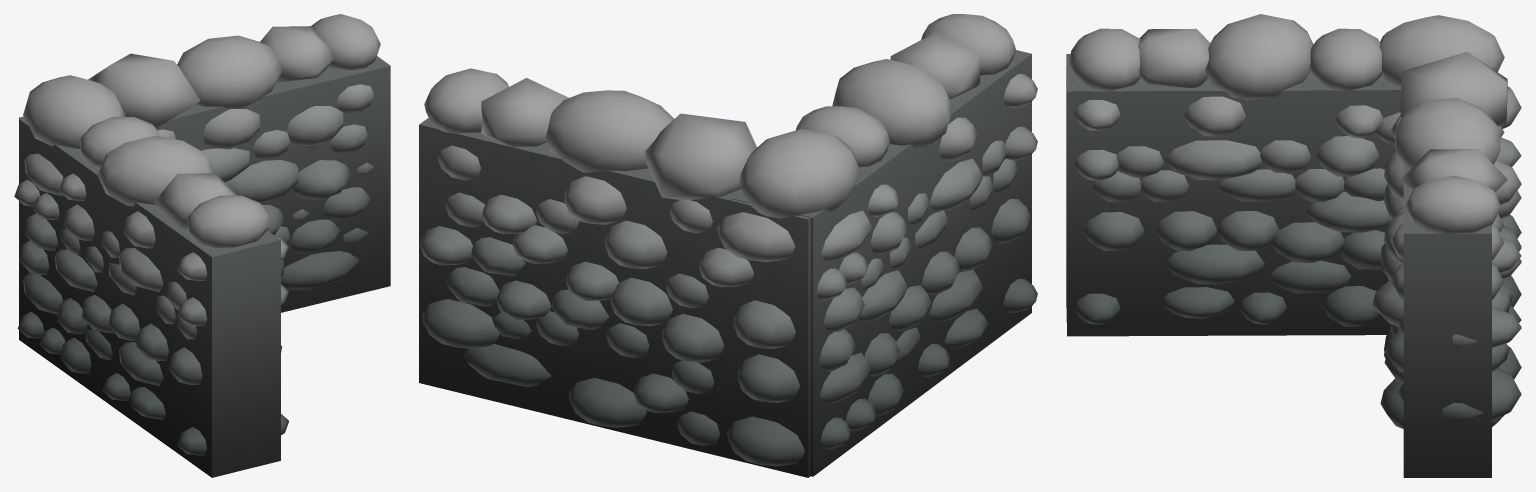
Rendered from stonewall_corner.fbx.
The picture shows the model from 3 angles, left to right: view 1: azimuth 30°, elevation 25°; view 2: azimuth 150°, elevation 25°; view 3: azimuth 270°, elevation 25°; orthographic projection. The views are drawn at different scales.
Parts seen in each view (by area): view 1: stonewall_corner; view 2: stonewall_corner; view 3: stonewall_corner.
Boxes of the visible parts, <box> form: stonewall_corner: <box>14,14,390,477</box>; stonewall_corner: <box>419,14,1037,477</box>; stonewall_corner: <box>1066,14,1521,477</box>.
Bounding box in the file's own units: 7.66 × 5.54 × 7.65.
